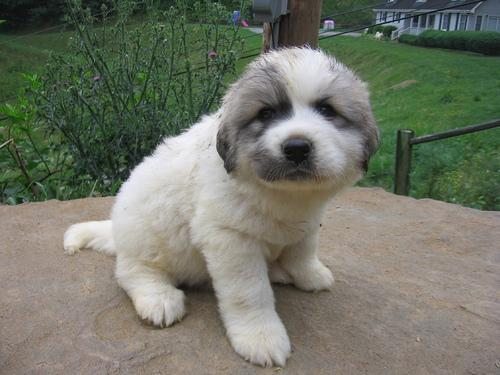Great_Pyrenees: (60, 46, 379, 368)
